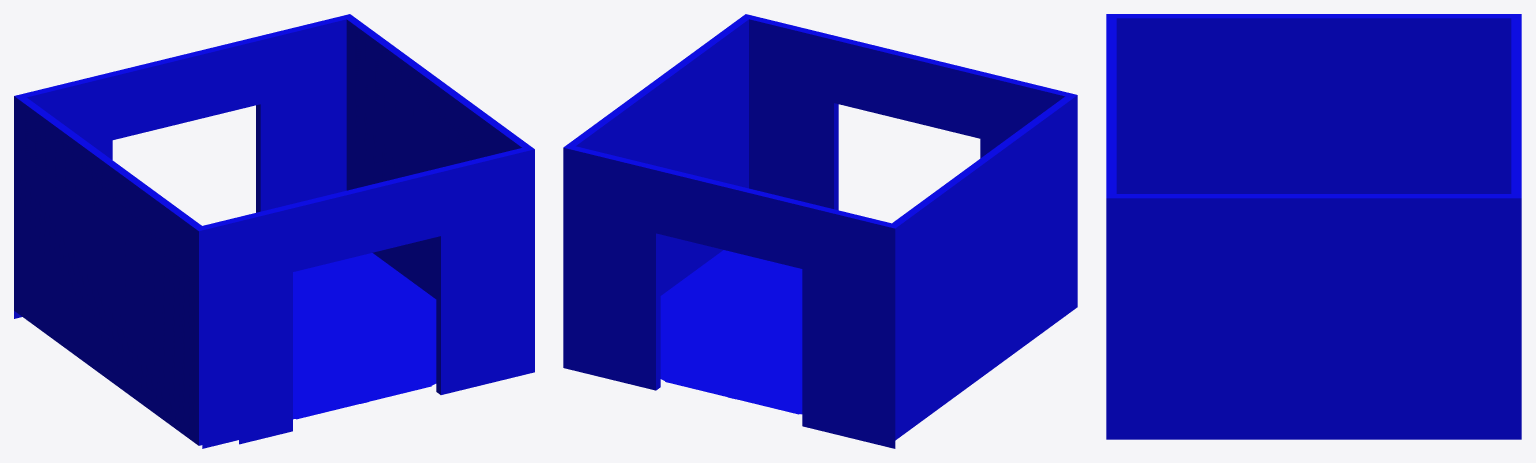
The model's file is CorridorCentre.fbx.
3 views of the same model, side by side, from view 1: azimuth 30°, elevation 25°; view 2: azimuth 150°, elevation 25°; view 3: azimuth 270°, elevation 25° (orthographic). The views are drawn at different scales.
Visible parts, largest first — view 1: CorridorCentre_Walls, CorridorCentre_Floor; view 2: CorridorCentre_Walls, CorridorCentre_Floor; view 3: CorridorCentre_Walls.
Part boxes in pixels (box(x1,y1,x2,y2)): CorridorCentre_Walls: box(14, 14, 534, 448); CorridorCentre_Floor: box(293, 253, 436, 419); CorridorCentre_Walls: box(563, 14, 1077, 448); CorridorCentre_Floor: box(660, 250, 802, 414); CorridorCentre_Walls: box(1106, 14, 1521, 439).
Bounding box in the file's own units: 420 × 266 × 400.
